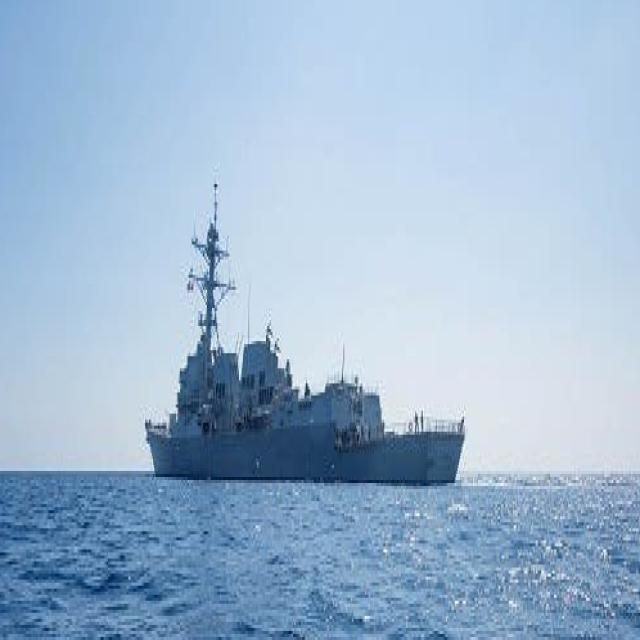navalvessels: (141, 168, 475, 500)
